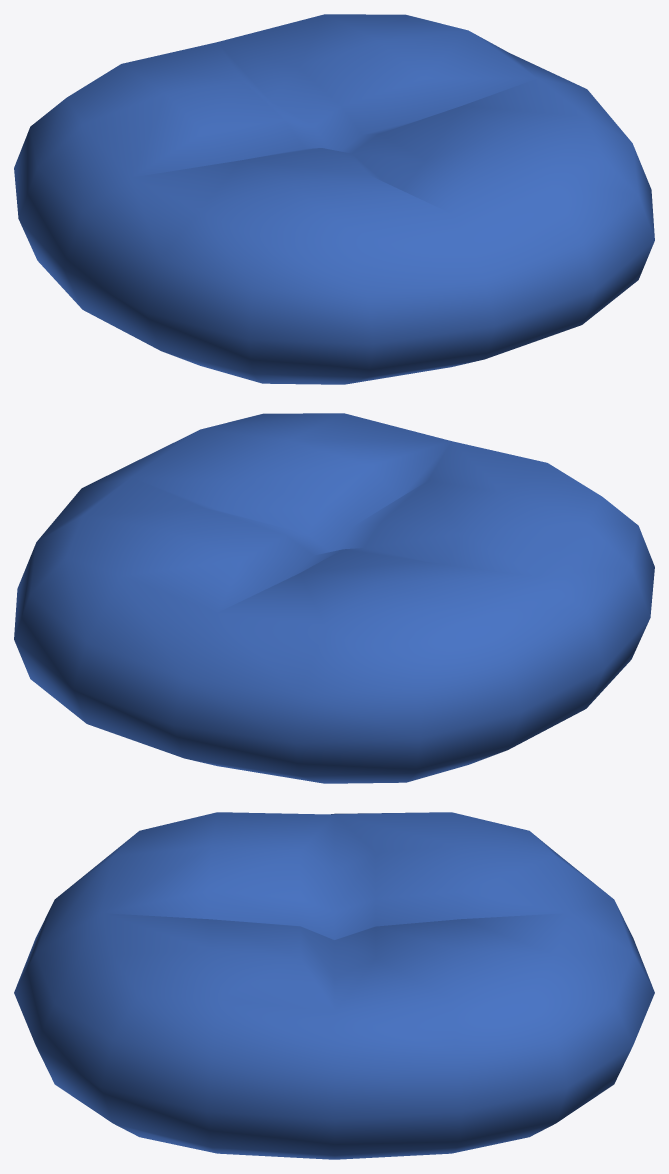
The model's file is Cojin.fbx.
3 renders of one model, top to bottom at view 1: azimuth 30°, elevation 25°; view 2: azimuth 150°, elevation 25°; view 3: azimuth 270°, elevation 25°, orthographic.
Parts seen in each view (by area): view 1: Cube; view 2: Cube; view 3: Cube.
Boxes of the visible parts, left/top/right/bottom form: Cube: left=14, top=14, right=654, bottom=384; Cube: left=14, top=413, right=654, bottom=783; Cube: left=14, top=812, right=654, bottom=1159.
Bounding box in the file's own units: 197 × 63.52 × 203.
